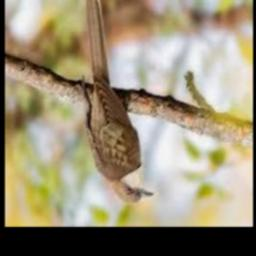Cuckoo: (83, 0, 154, 204)
